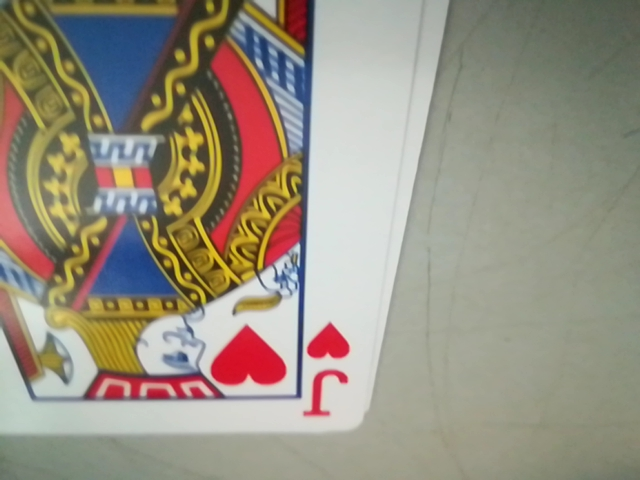hx j: (295, 320, 358, 422)
